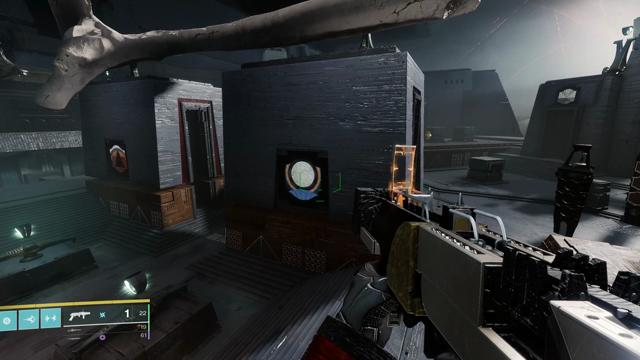pyramid: (109, 145, 127, 173)
traveler: (284, 159, 322, 200)
